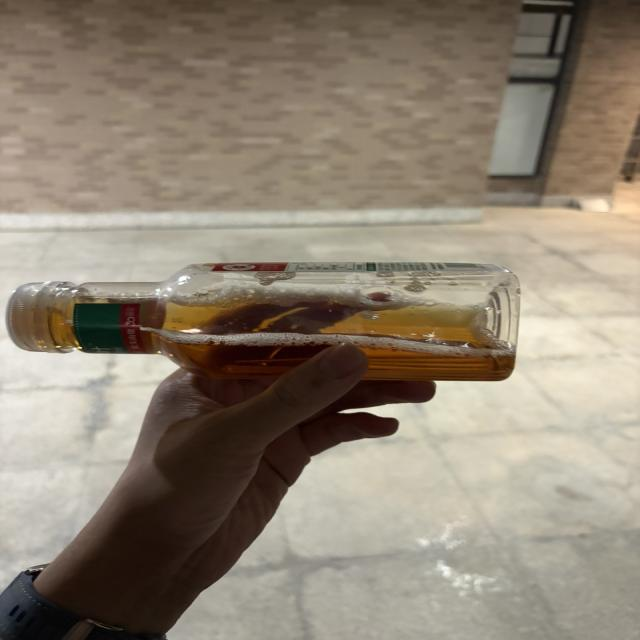medium: (6, 260, 519, 380)
